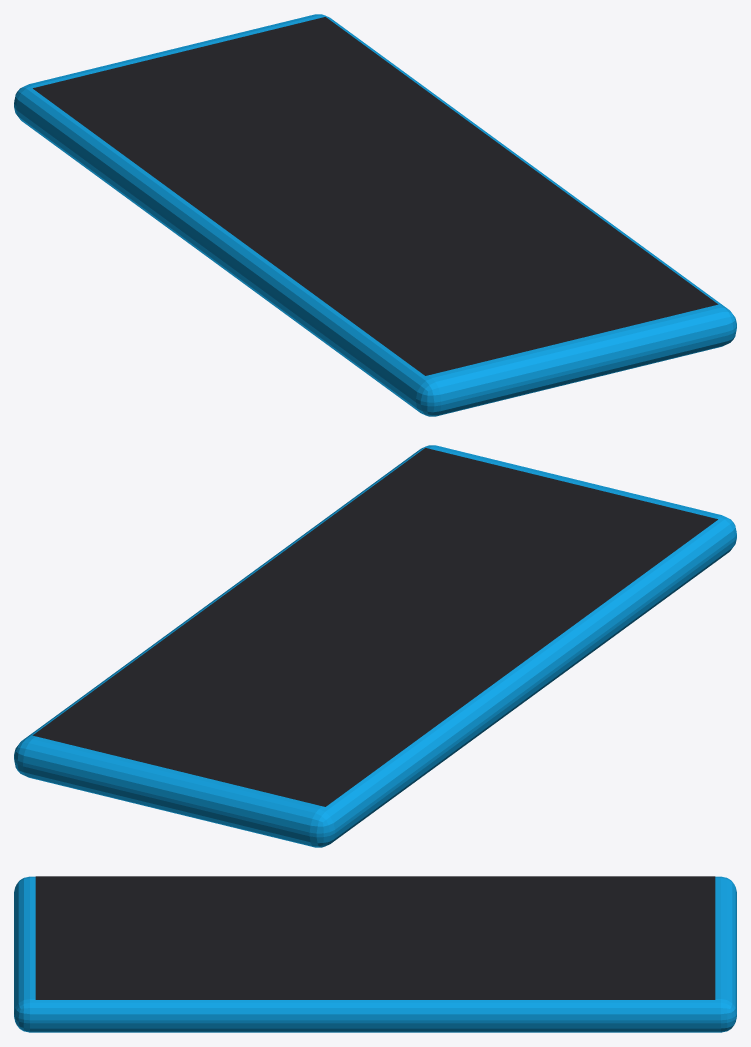
The model's file is Phone_201.glb.
3 views of the same model, one above another, from view 1: azimuth 30°, elevation 25°; view 2: azimuth 150°, elevation 25°; view 3: azimuth 270°, elevation 25° (orthographic). The views are drawn at different scales.
Parts seen in each view (by area): view 1: Phone_Screen, Phone_Body; view 2: Phone_Screen, Phone_Body; view 3: Phone_Screen, Phone_Body.
Boxes of the visible parts, bbox=[...] form: Phone_Screen: bbox=[33, 17, 718, 375]; Phone_Body: bbox=[14, 14, 736, 416]; Phone_Screen: bbox=[32, 448, 717, 806]; Phone_Body: bbox=[14, 445, 736, 847]; Phone_Screen: bbox=[35, 876, 715, 999]; Phone_Body: bbox=[14, 876, 736, 1032].
Size of the model in its own units: 0.0744 by 0.0084 by 0.1691.
